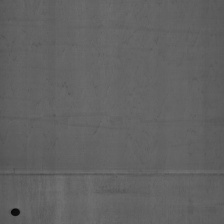punching_hole: (4, 3, 220, 141), (0, 165, 223, 180), (9, 202, 22, 219)
